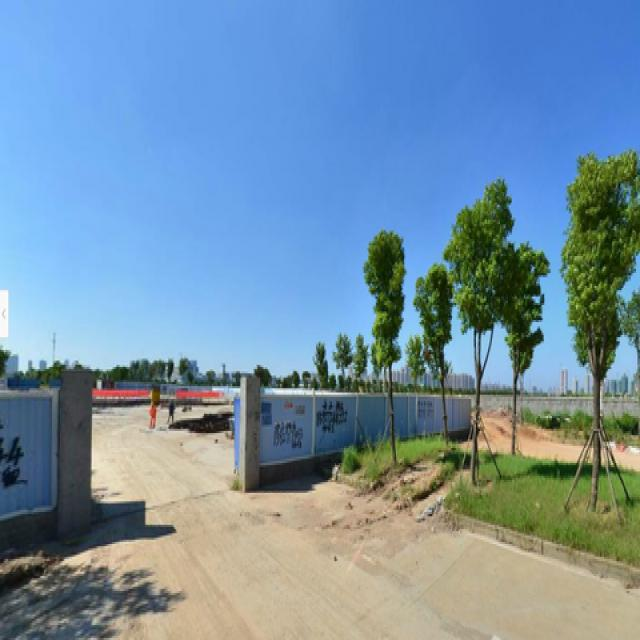cinn: (560, 160, 631, 499), (457, 196, 504, 484), (369, 234, 412, 473), (511, 237, 549, 454), (418, 264, 454, 454)
